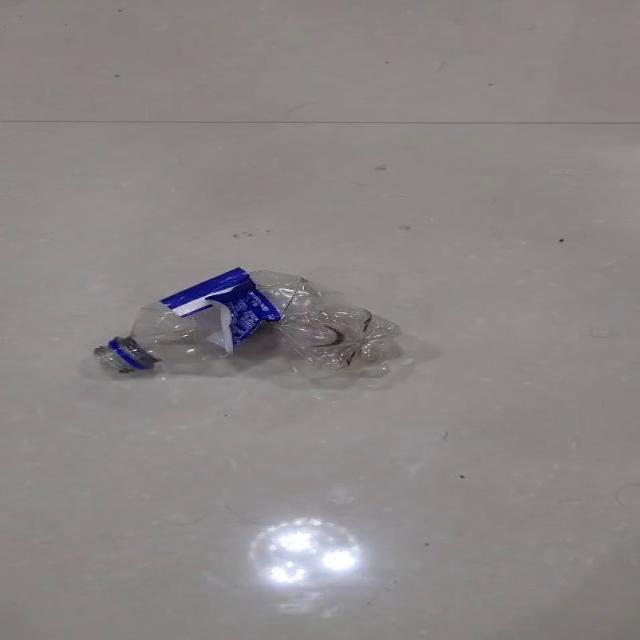plastic: (94, 267, 403, 378)
